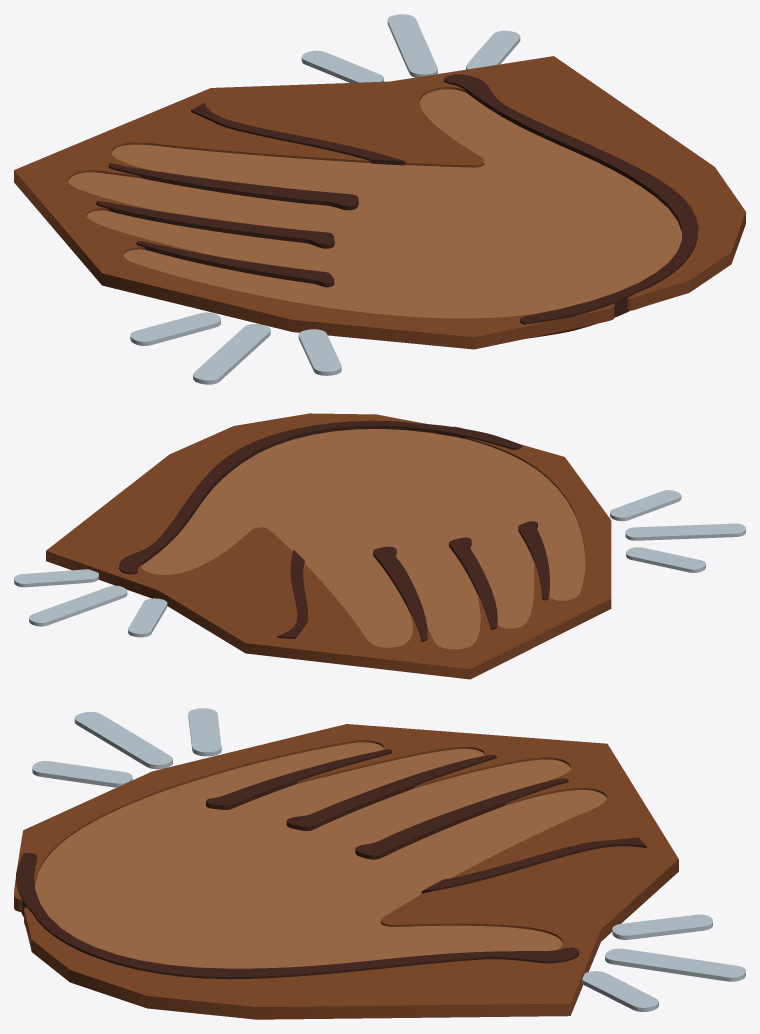
File: emoji_u1f44f_1f3fe.glb
The picture shows the model from 3 angles, top to bottom: view 1: azimuth 30°, elevation 25°; view 2: azimuth 150°, elevation 25°; view 3: azimuth 270°, elevation 25°; orthographic projection. The views are drawn at different scales.
Parts seen in each view (by area): view 1: emoji_u1f44f_1f3fe; view 2: emoji_u1f44f_1f3fe; view 3: emoji_u1f44f_1f3fe.
Boxes of the visible parts, box(x1,y1,x2,y2) form: emoji_u1f44f_1f3fe: box(14, 14, 745, 384); emoji_u1f44f_1f3fe: box(14, 413, 745, 679); emoji_u1f44f_1f3fe: box(14, 708, 745, 1019).
Bounding box in the file's own units: 0.0311 × 0.0008 × 0.0318.
